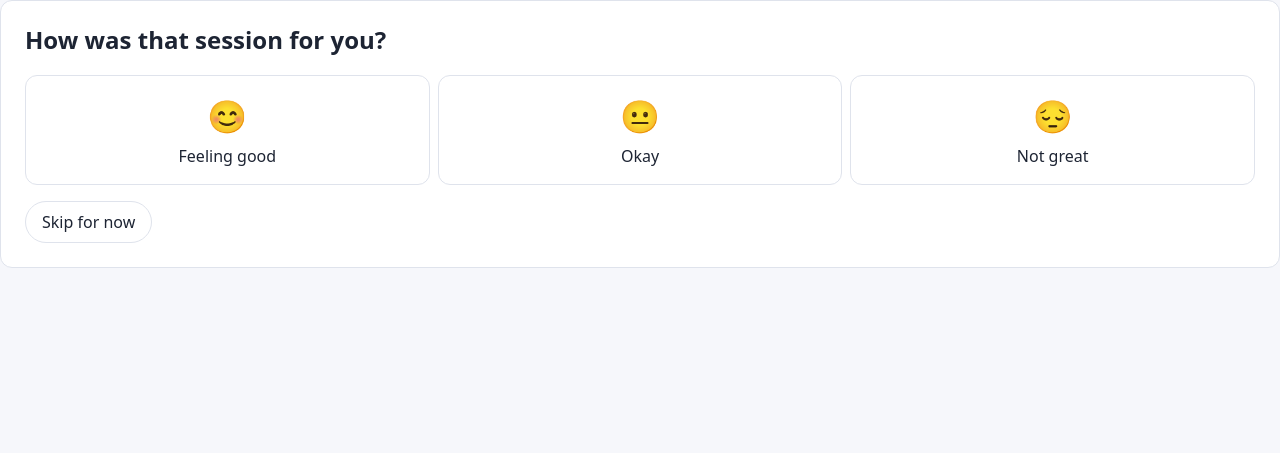
Scenario: MoodCheckIn › shows support resources when moods have been consistently low
Click the button "😔 Not great": [1053, 130] box [850, 75, 1255, 185]
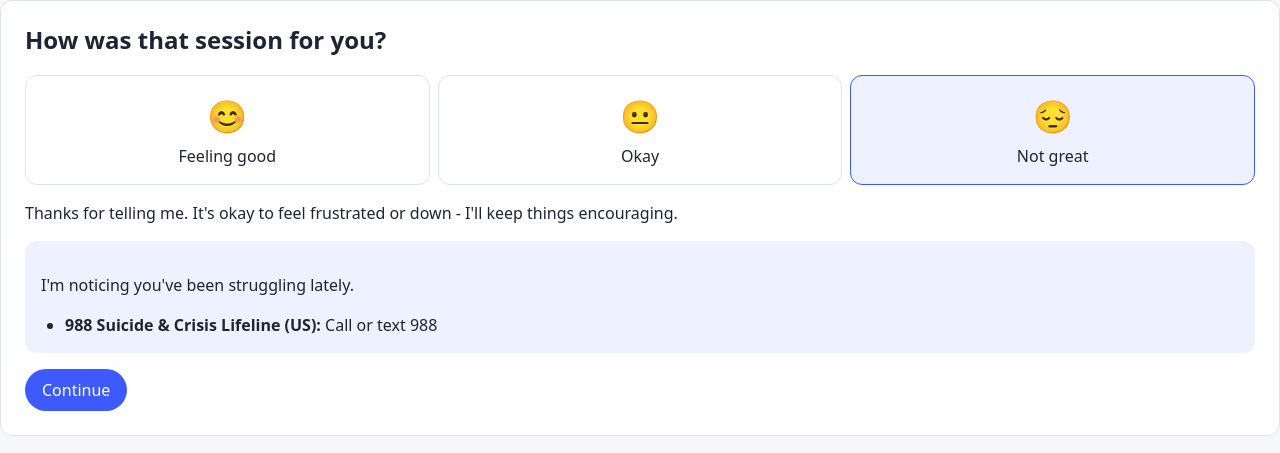
Check: the element named "Support resources" shows "I'm noticing you've been struggling lately.", box [41, 274, 354, 296]
Check: the element named "Support resources" shows "Call or text 988", box [325, 314, 437, 336]
